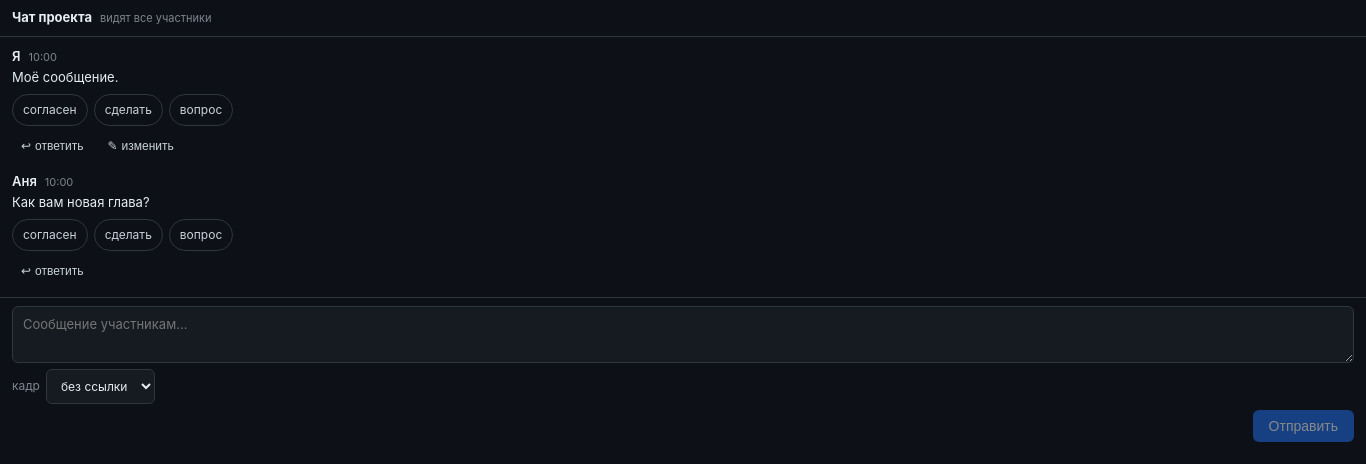
ProjectChat › своё сообщение можно изменить, чужое — нет (0.96.0)
The width and height of the screenshot is (1366, 464).
expect the text "Моё сообщение." is shown: met, box [12,69,118,85]
Click the button "✎ изменить" at (141, 146), box [98,130,183,162]
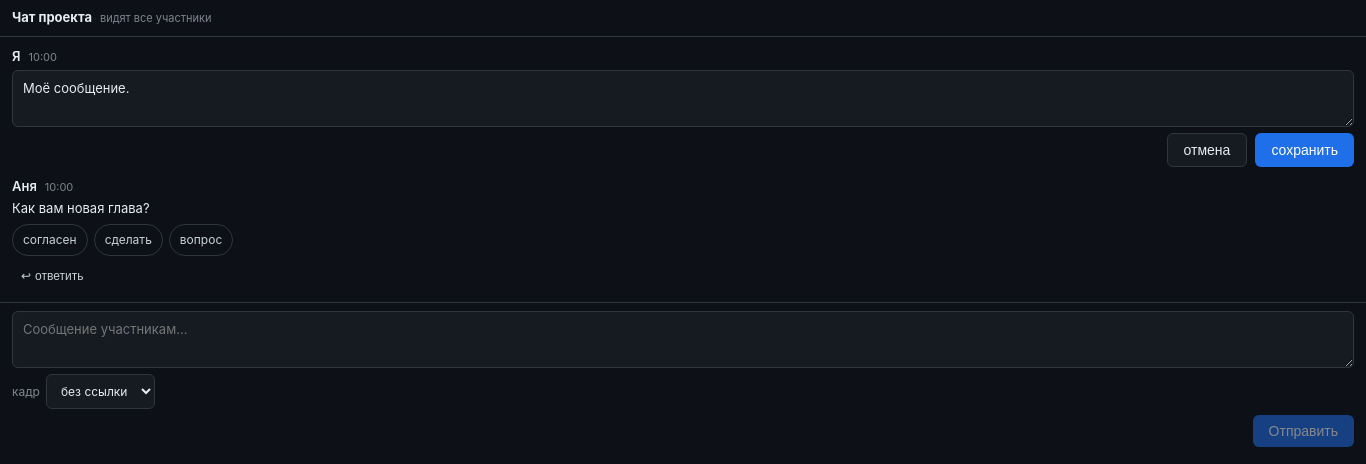
Replace the text in the text box named "Изменить сообщение Я" with "Моё, исправленное." at (683, 98), box [12,70,1354,127]
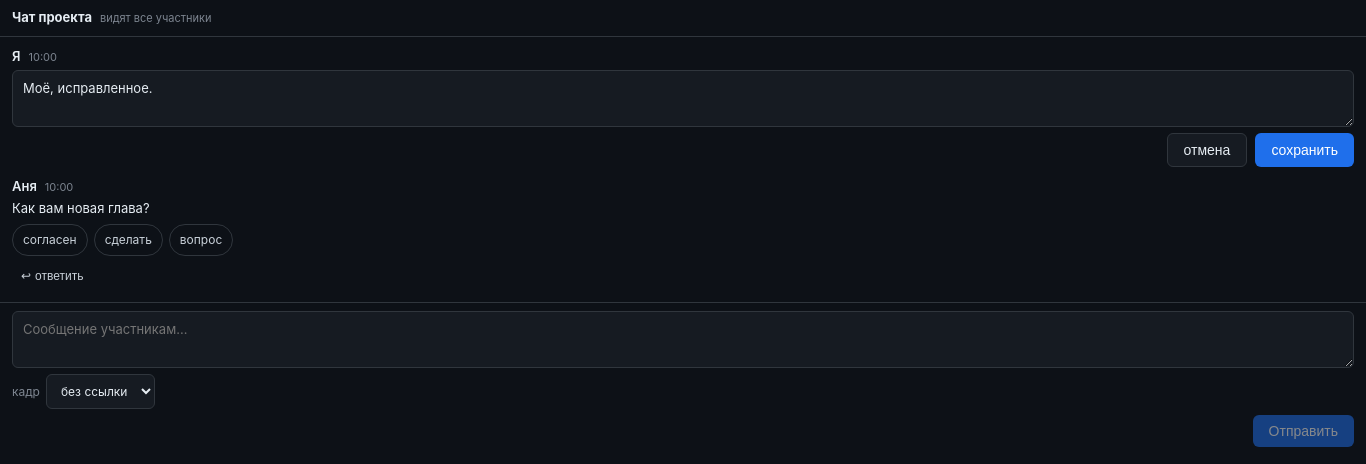
expect the button "сохранить" is enabled: met
Click the button "сохранить" at (1305, 150), box [1255,133,1354,167]
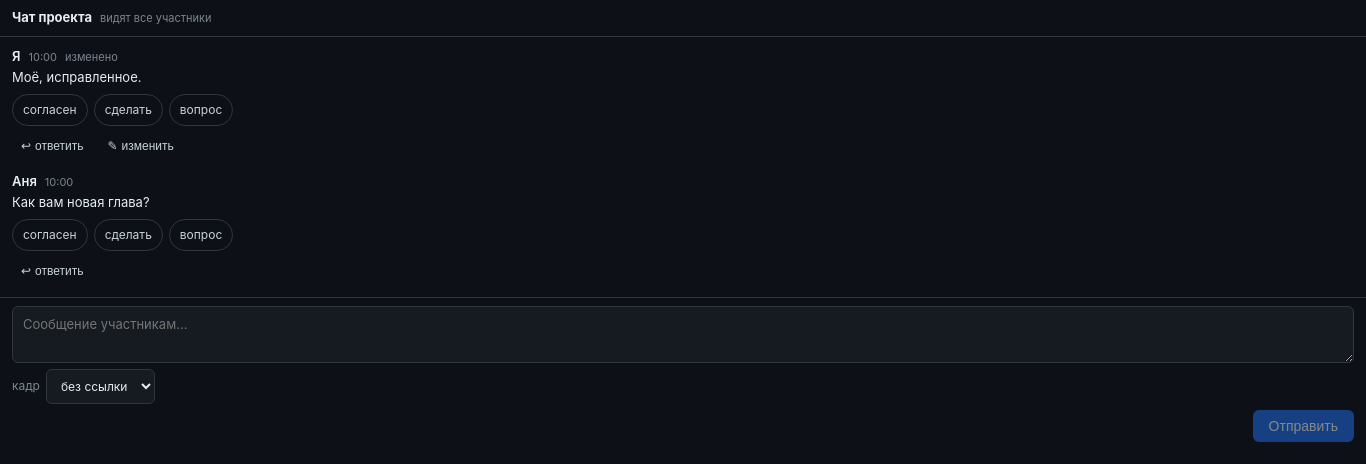
expect the text "Моё, исправленное." is shown: met, box [12,69,142,85]
expect the text "изменено" is shown: met, box [65,48,118,65]
